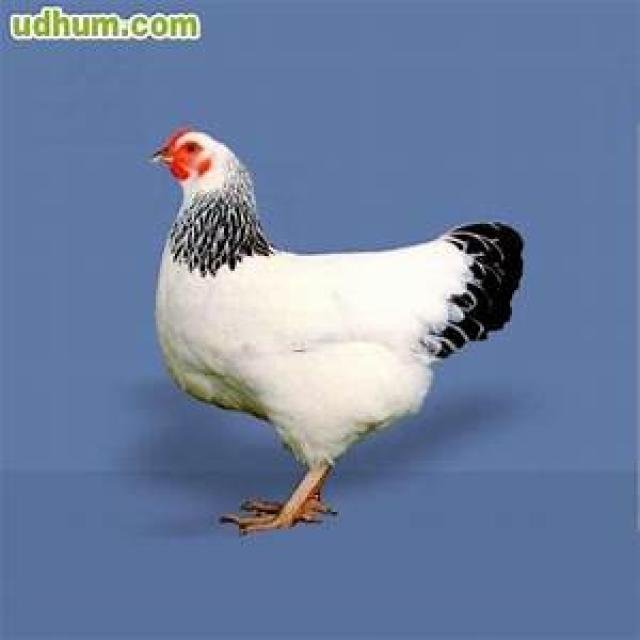hen: (155, 129, 522, 532)
